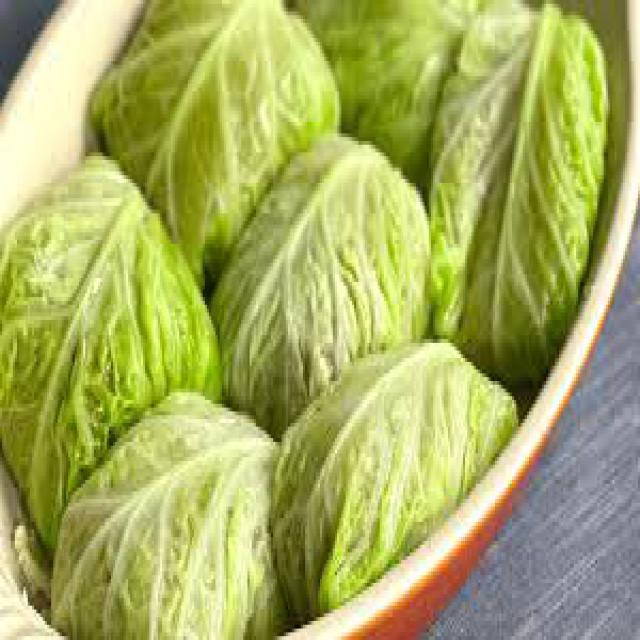Cabbage: (2, 151, 220, 550), (88, 0, 342, 298), (269, 331, 521, 611), (428, 0, 609, 381), (213, 134, 428, 436), (48, 395, 280, 640), (292, 0, 476, 189)
